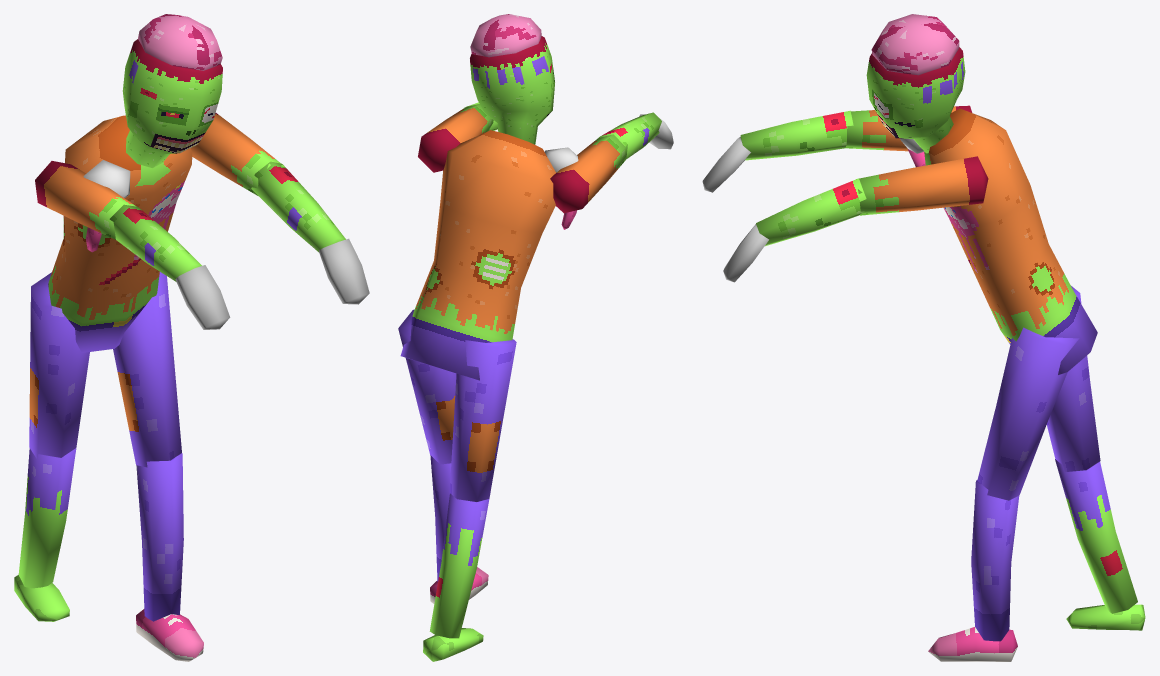
The model's file is Walker.fbx.
The picture shows the model from 3 angles, left to right: view 1: azimuth 30°, elevation 25°; view 2: azimuth 150°, elevation 25°; view 3: azimuth 270°, elevation 25°; orthographic projection. The views are drawn at different scales.
Visible parts, largest first — view 1: torso, head.001, thigh L, thigh R, shin L.001, shin R.001, upper arm R, forearm L.001, brain, upper arm L, forearm R.001, foot L.001 (+4 smaller); view 2: torso, thigh R, head.001, shin R.001, thigh L, upper arm R, upper arm L, brain, shin L.001, forearm R.001, foot R.001, shoulder scoop (+2 smaller); view 3: torso, thigh L, head.001, shin L.001, shin R.001, upper arm L, thigh R, brain, forearm R.001, forearm L.001, foot L.001, upper arm R (+3 smaller).
Boxes of the visible parts, left/top/right/bottom form: torso: left=48, top=115, right=192, bottom=352; head.001: left=122, top=39, right=222, bottom=167; thigh L: left=113, top=272, right=181, bottom=467; thigh R: left=29, top=272, right=89, bottom=459; shin L.001: left=136, top=453, right=183, bottom=621; shin R.001: left=18, top=448, right=76, bottom=588; upper arm R: left=35, top=161, right=136, bottom=239; forearm L.001: left=251, top=161, right=345, bottom=252; brain: left=138, top=14, right=222, bottom=70; upper arm L: left=191, top=113, right=284, bottom=195; forearm R.001: left=109, top=204, right=201, bottom=281; foot L.001: left=136, top=609, right=203, bottom=661; torso: left=400, top=130, right=555, bottom=380; thigh R: left=449, top=339, right=516, bottom=501; head.001: left=470, top=36, right=554, bottom=144; shin R.001: left=429, top=493, right=489, bottom=638; thigh L: left=398, top=309, right=456, bottom=464; upper arm R: left=550, top=134, right=627, bottom=213; upper arm L: left=418, top=104, right=493, bottom=172; brain: left=470, top=14, right=541, bottom=57; shin L.001: left=430, top=455, right=451, bottom=581; forearm R.001: left=598, top=112, right=661, bottom=158; foot R.001: left=423, top=628, right=483, bottom=661; shoulder scoop: left=544, top=147, right=578, bottom=172; torso: left=924, top=108, right=1097, bottom=374; thigh L: left=977, top=327, right=1079, bottom=500; head.001: left=866, top=47, right=965, bottom=153; shin L.001: left=971, top=480, right=1019, bottom=641; shin R.001: left=1055, top=459, right=1137, bottom=613; upper arm L: left=856, top=156, right=988, bottom=215; thigh R: left=1046, top=286, right=1100, bottom=472; brain: left=871, top=14, right=959, bottom=75; forearm R.001: left=740, top=110, right=853, bottom=160; forearm L.001: left=756, top=178, right=866, bottom=246; foot L.001: left=928, top=627, right=1017, bottom=661; upper arm R: left=845, top=105, right=972, bottom=151.
Bounding box in the file's own units: 0.5787 × 1.73 × 1.1.
